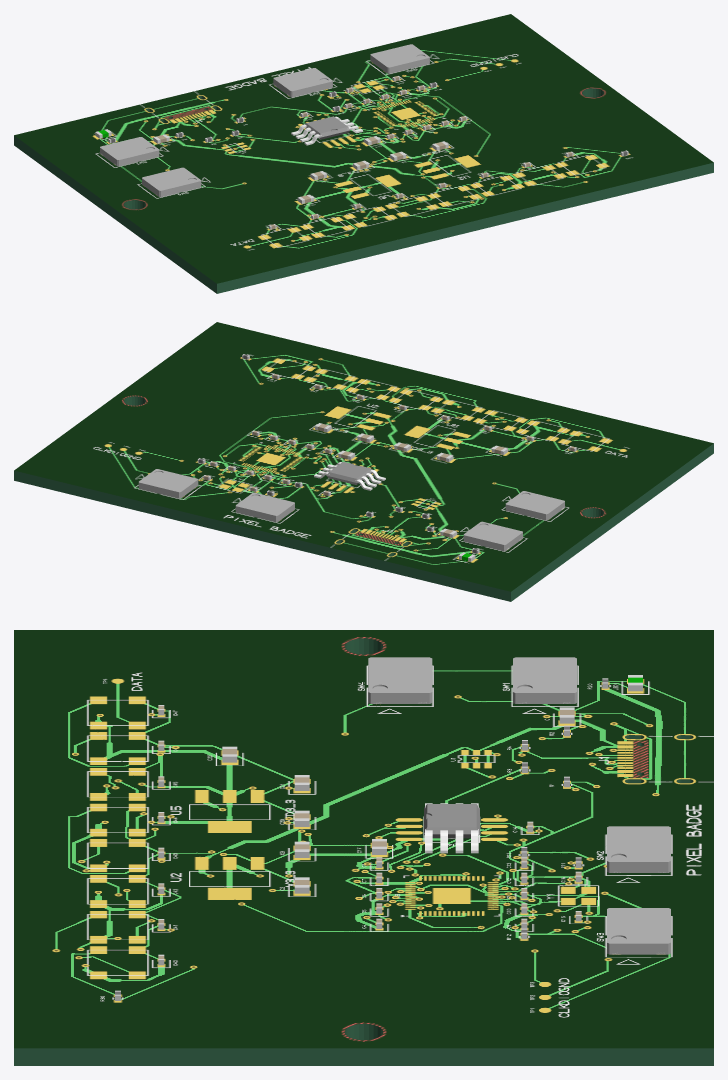
3 views of the same model, one above another, from view 1: azimuth 30°, elevation 25°; view 2: azimuth 150°, elevation 25°; view 3: azimuth 270°, elevation 25° (orthographic). The views are drawn at different scales.
Visible parts, largest first — view 1: Box0, SW2, SW3, SW1, SW4, U4; view 2: Box0, SW3, SW2, SW1, SW4, U4; view 3: Box0, SW4, SW2, SW3, SW1, U4.
Part boxes in pixels (left/top/right/bottom): Box0: left=14, top=14, right=713, bottom=293; SW2: left=273, top=68, right=332, bottom=97; SW3: left=370, top=44, right=429, bottom=73; SW1: left=100, top=137, right=159, bottom=166; SW4: left=142, top=167, right=201, bottom=197; U4: left=291, top=116, right=362, bottom=145; Box0: left=14, top=322, right=713, bottom=601; SW3: left=138, top=469, right=198, bottom=498; SW2: left=235, top=492, right=294, bottom=522; SW1: left=463, top=521, right=522, bottom=551; SW4: left=505, top=491, right=564, bottom=520; U4: left=314, top=461, right=385, bottom=490; Box0: left=14, top=630, right=713, bottom=1065; SW4: left=368, top=657, right=432, bottom=703; SW2: left=607, top=826, right=670, bottom=872; SW3: left=607, top=908, right=670, bottom=954; SW1: left=513, top=657, right=576, bottom=703; U4: left=424, top=803, right=479, bottom=853.
Size of the model in its own units: 82 by 2.88 by 58.
10 materials, 2 textured.
